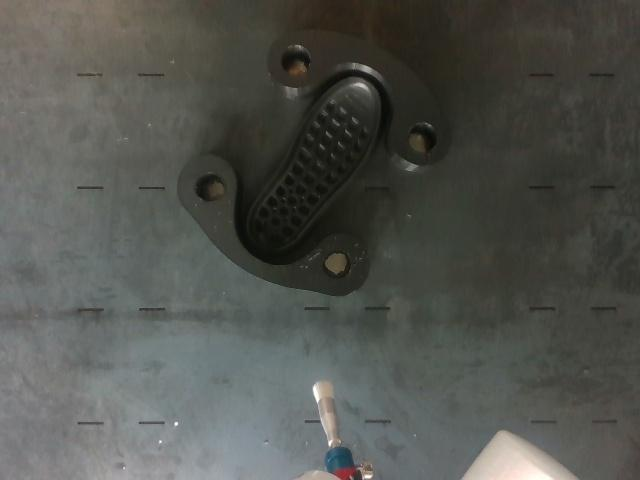shoes: (247, 77, 380, 250)
